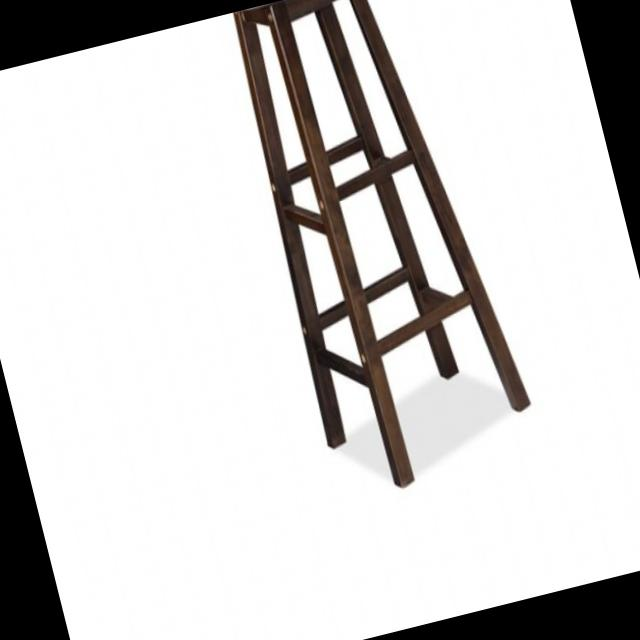Chair: (215, 0, 554, 506)
